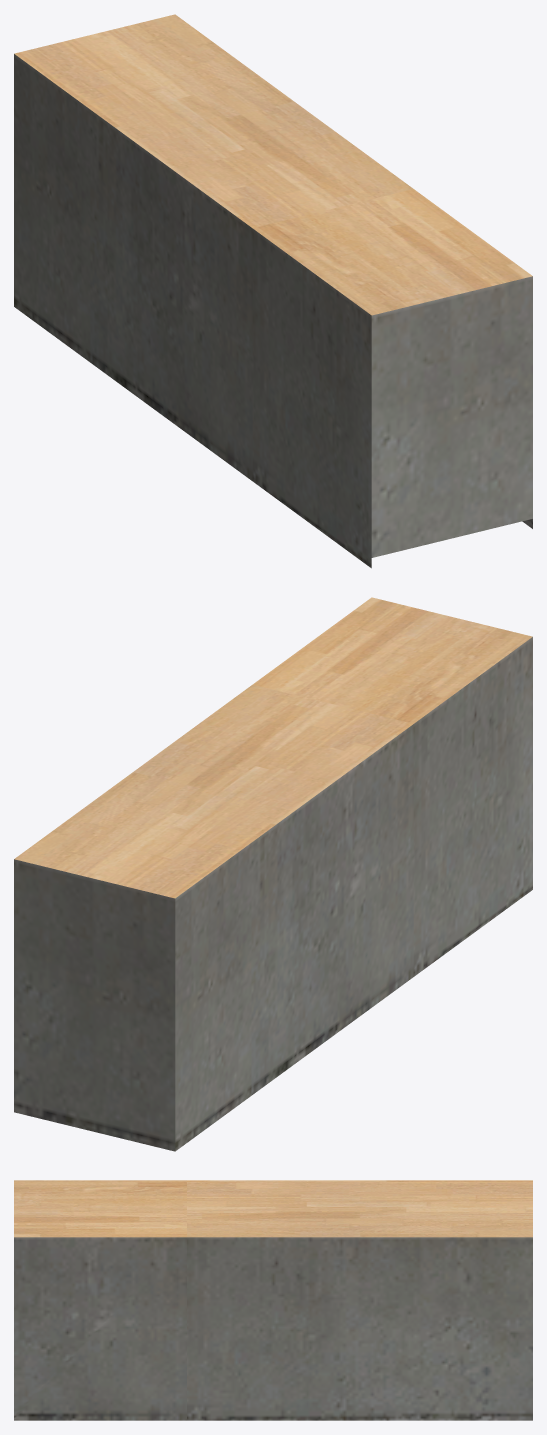
3 views of the same model, one above another, from view 1: azimuth 30°, elevation 25°; view 2: azimuth 150°, elevation 25°; view 3: azimuth 270°, elevation 25° (orthographic). The views are drawn at different scales.
Parts seen in each view (by area): view 1: Joint_0_Object_0, Joint_0_Object_1; view 2: Joint_0_Object_0, Joint_0_Object_1; view 3: Joint_0_Object_0, Joint_0_Object_1.
Part boxes in pixels (x1=…): Joint_0_Object_0: x1=14, y1=54, x2=532, y2=568; Joint_0_Object_1: x1=14, y1=14, x2=532, y2=315; Joint_0_Object_0: x1=14, y1=637, x2=532, y2=1151; Joint_0_Object_1: x1=14, y1=597, x2=532, y2=898; Joint_0_Object_0: x1=14, y1=1237, x2=532, y2=1420; Joint_0_Object_1: x1=14, y1=1180, x2=532, y2=1237.
Bounding box in the file's own units: 400 × 600 × 1538.
